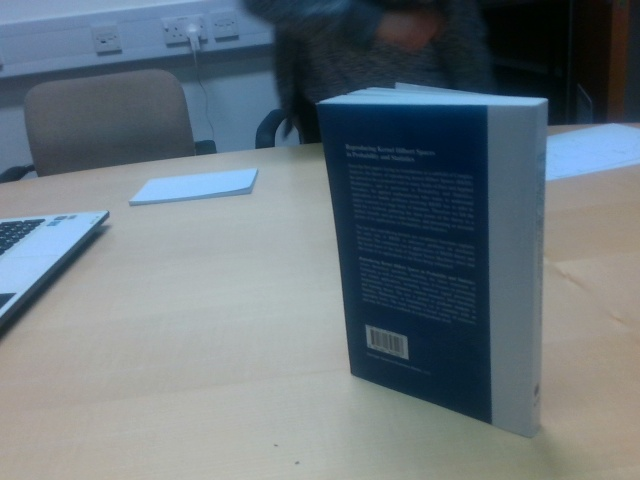book: (316, 80, 548, 441)
